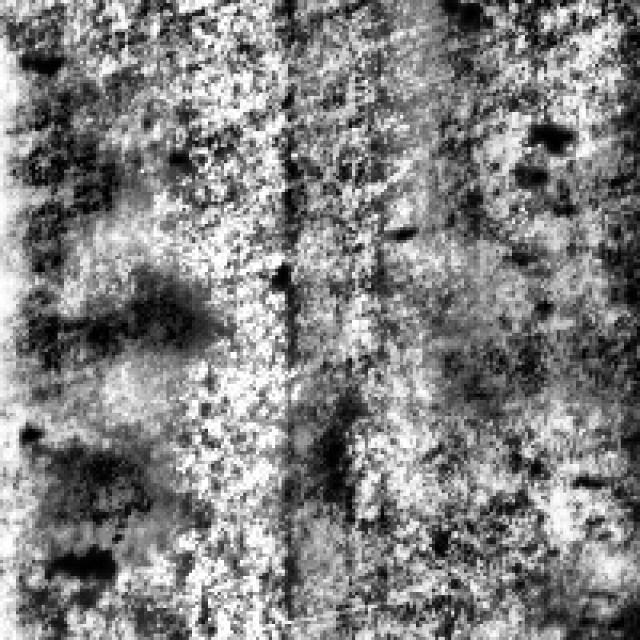Scratches: (426, 70, 634, 426), (0, 38, 131, 282), (3, 269, 205, 400), (29, 416, 189, 557)
